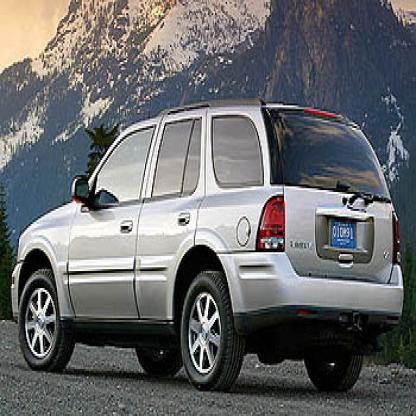Vehicle: (9, 96, 406, 399)
